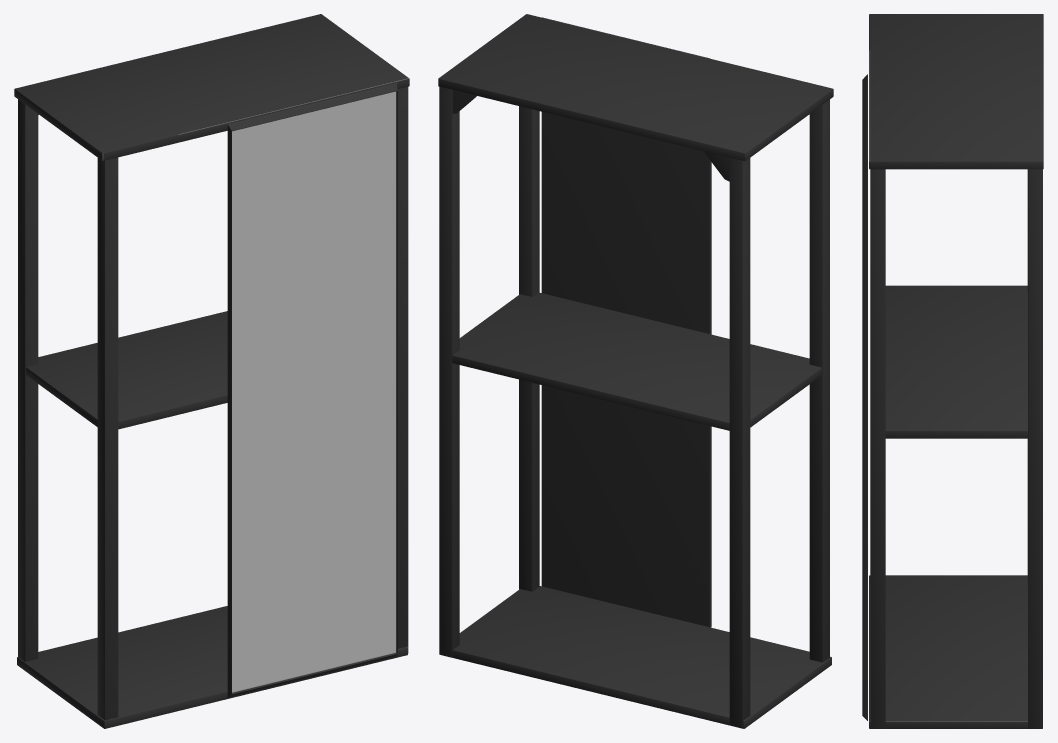
The model's file is mirrior_012(Black).gltf.
3 views of the same model, side by side, from view 1: azimuth 30°, elevation 25°; view 2: azimuth 150°, elevation 25°; view 3: azimuth 270°, elevation 25° (orthographic).
Visible parts, largest first — view 1: mirrior_012; view 2: mirrior_012; view 3: mirrior_012.
Part boxes in pixels (x1,y1,x2,y2): mirrior_012: [14, 14, 409, 728]; mirrior_012: [438, 14, 833, 728]; mirrior_012: [862, 14, 1043, 728].
Bounding box in the file's own units: 0.4241 × 0.7605 × 0.2202.
Materials: 1 (1 with a texture image).
